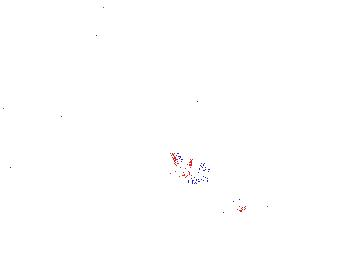flame jellyfish: (167, 150, 255, 214), (258, 154, 308, 214), (31, 75, 75, 141)
